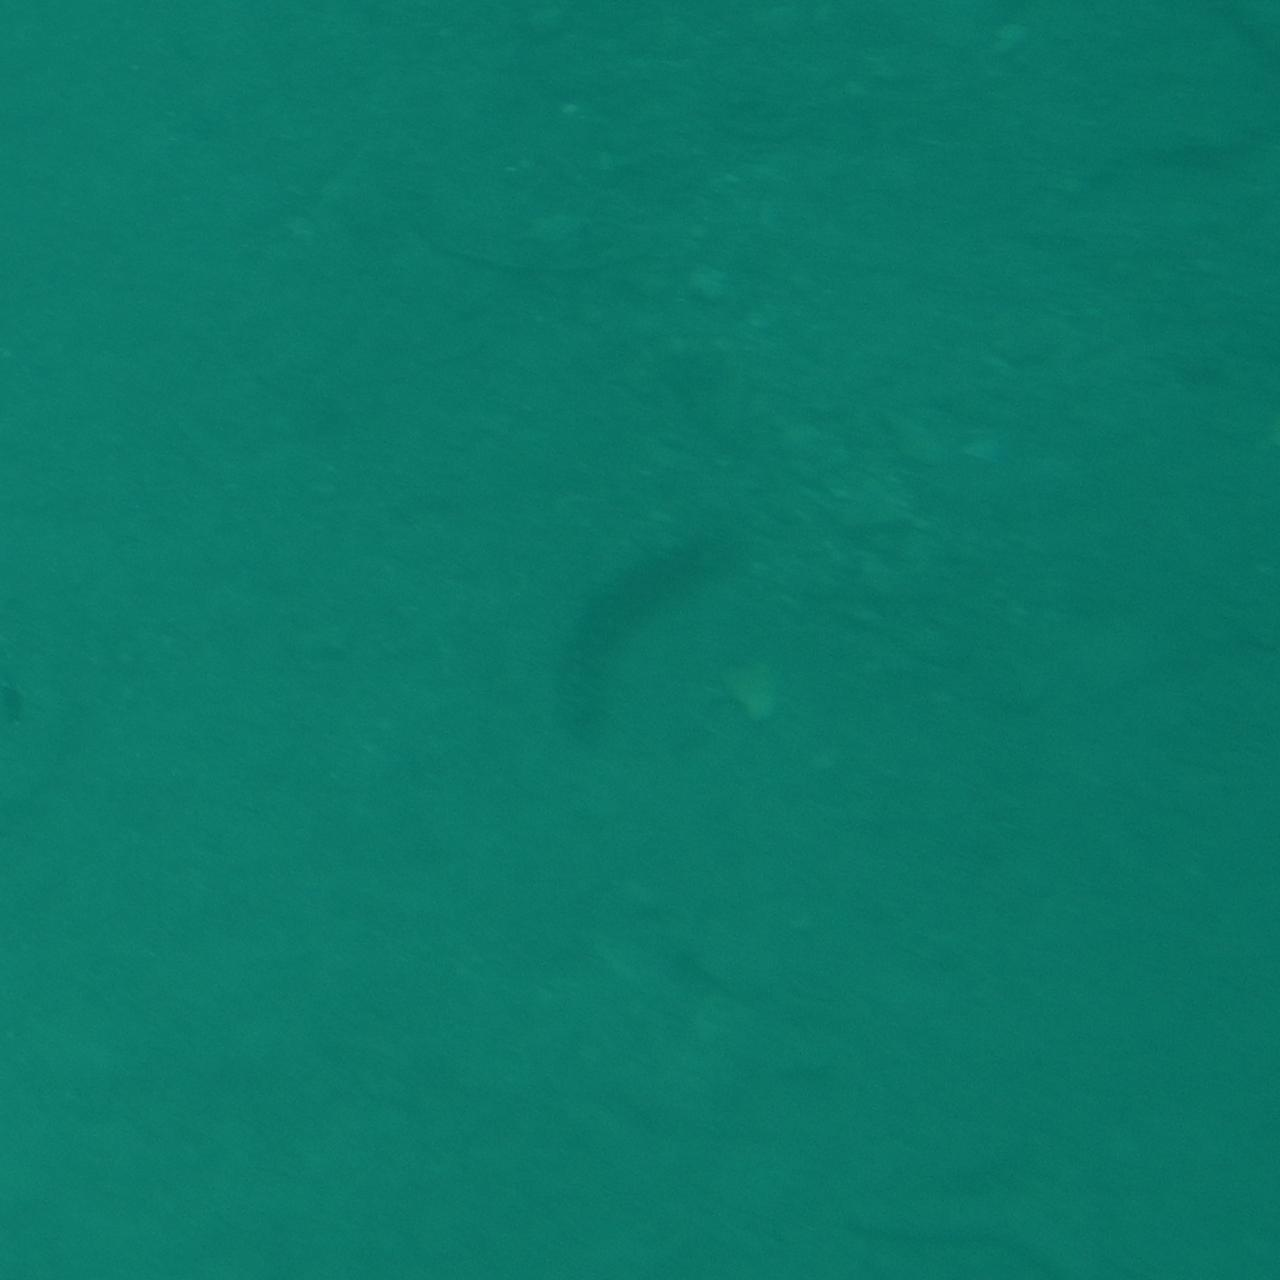Holothuria tubulosa: (548, 512, 732, 768)
